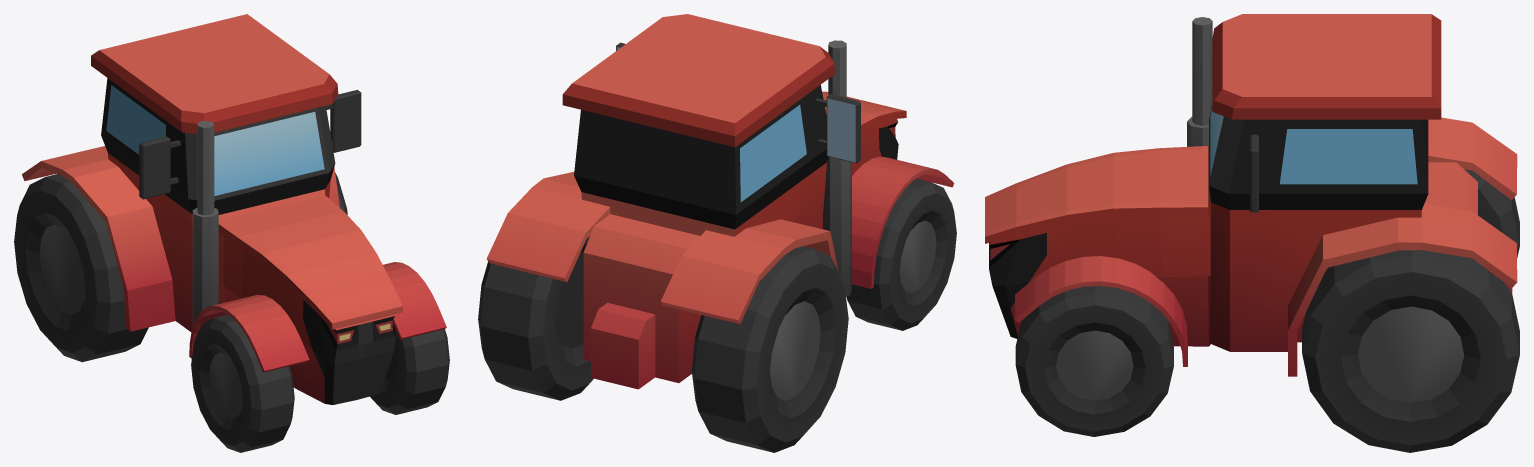
Rendered from farmpack2023tractor.fbx.
3 views of the same model, side by side, from view 1: azimuth 30°, elevation 25°; view 2: azimuth 150°, elevation 25°; view 3: azimuth 270°, elevation 25° (orthographic). The views are drawn at different scales.
Parts seen in each view (by area): view 1: Cube.006; view 2: Cube.006; view 3: Cube.006.
Boxes of the visible parts, x1,y1,x2,y2 form: Cube.006: (14,14,449,452); Cube.006: (478,14,956,452); Cube.006: (985,14,1519,452).
Size of the model in its own units: 6.62 by 4.15 by 4.52.
